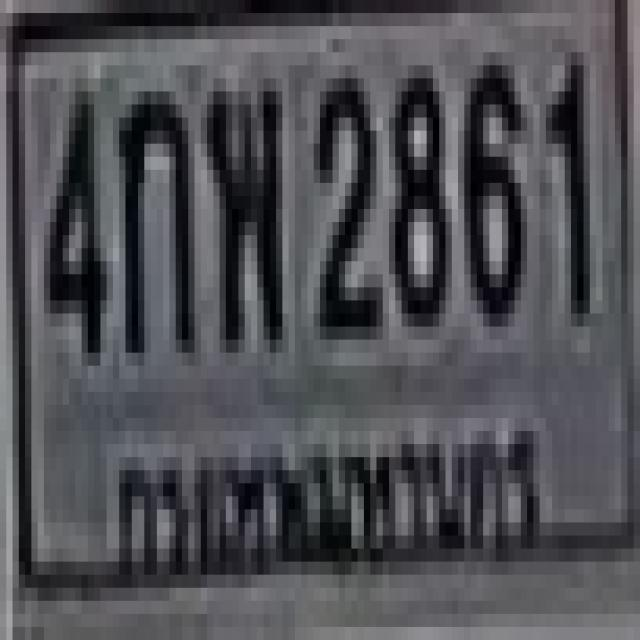-: (204, 78, 279, 340), (116, 85, 191, 346)
1: (546, 46, 583, 307)
2: (314, 66, 376, 327)
4: (44, 78, 100, 353)
6: (461, 52, 518, 314)
8: (389, 65, 446, 314)
